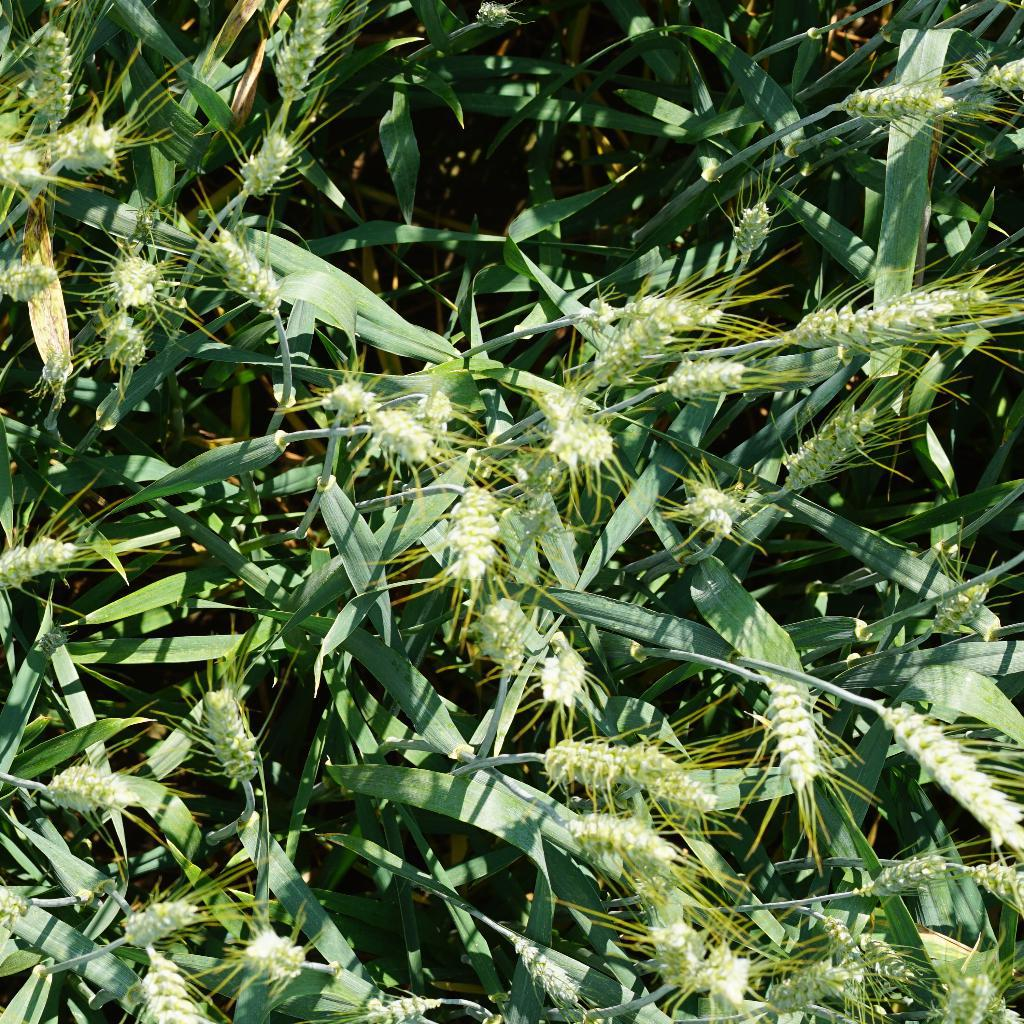0-0: (879, 695, 1021, 854), (783, 275, 994, 351), (557, 811, 709, 885), (526, 718, 639, 817), (773, 392, 878, 493), (580, 299, 687, 397), (851, 822, 963, 908), (186, 676, 272, 787), (198, 215, 290, 316), (268, 0, 349, 113), (830, 67, 957, 139), (8, 17, 86, 131), (768, 671, 836, 796), (609, 265, 736, 331), (437, 466, 501, 586), (133, 938, 219, 1024), (628, 737, 725, 811), (43, 744, 135, 822), (908, 557, 993, 638), (764, 954, 864, 1021), (0, 516, 88, 591), (676, 938, 758, 1016), (502, 933, 585, 1010), (456, 591, 531, 673), (542, 389, 619, 466), (231, 120, 307, 198), (41, 114, 133, 178), (679, 458, 752, 537), (220, 920, 311, 983), (852, 925, 928, 999), (926, 942, 991, 1024), (348, 965, 437, 1024), (117, 894, 205, 953), (526, 636, 598, 706), (639, 916, 702, 993), (660, 359, 763, 402), (365, 395, 432, 460), (92, 311, 157, 378), (0, 239, 59, 311), (107, 239, 168, 307), (27, 334, 86, 400), (809, 899, 867, 966), (961, 859, 1023, 917), (920, 84, 1009, 122), (729, 201, 781, 254), (321, 369, 376, 418), (418, 380, 464, 426), (131, 206, 160, 245)
